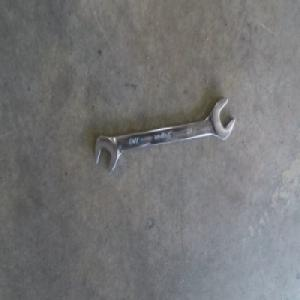Wrench: (94, 98, 236, 176)
